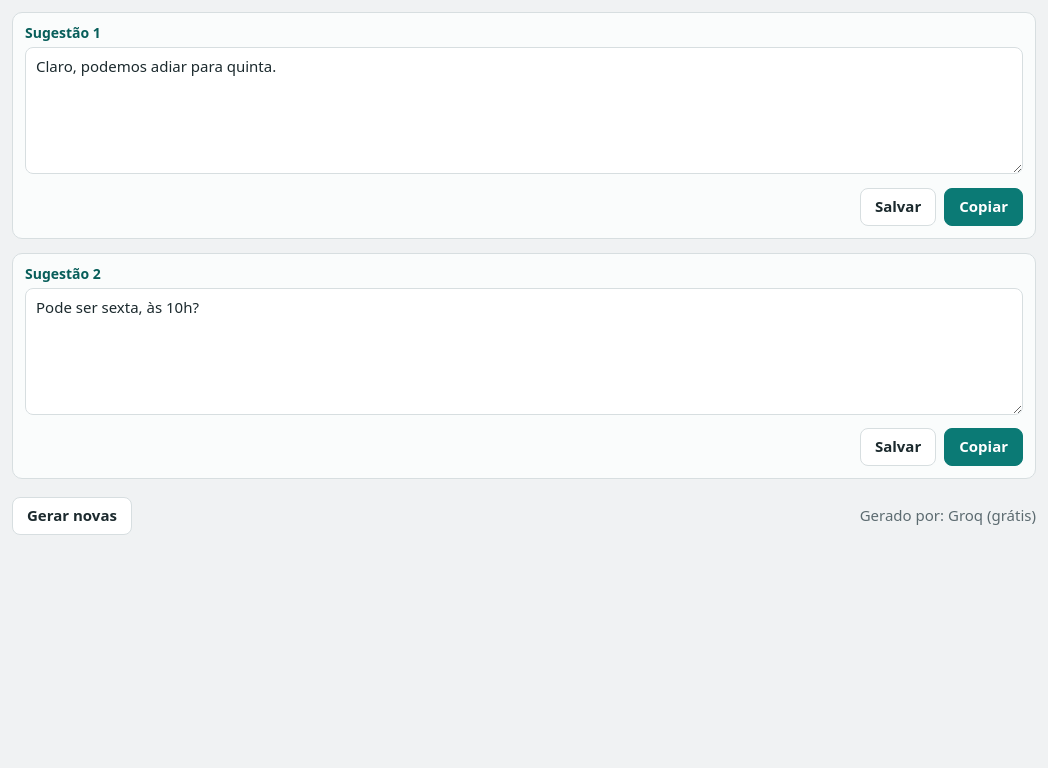
Test: Suggestions › Copiar envia o texto editado e mostra "Copiado ✓" por 2 segundos
The width and height of the screenshot is (1048, 768).
Replace the text in the text box labelled "Sugestão 1" with "Texto editado" at point(524, 111), box [25,47,1023,174]
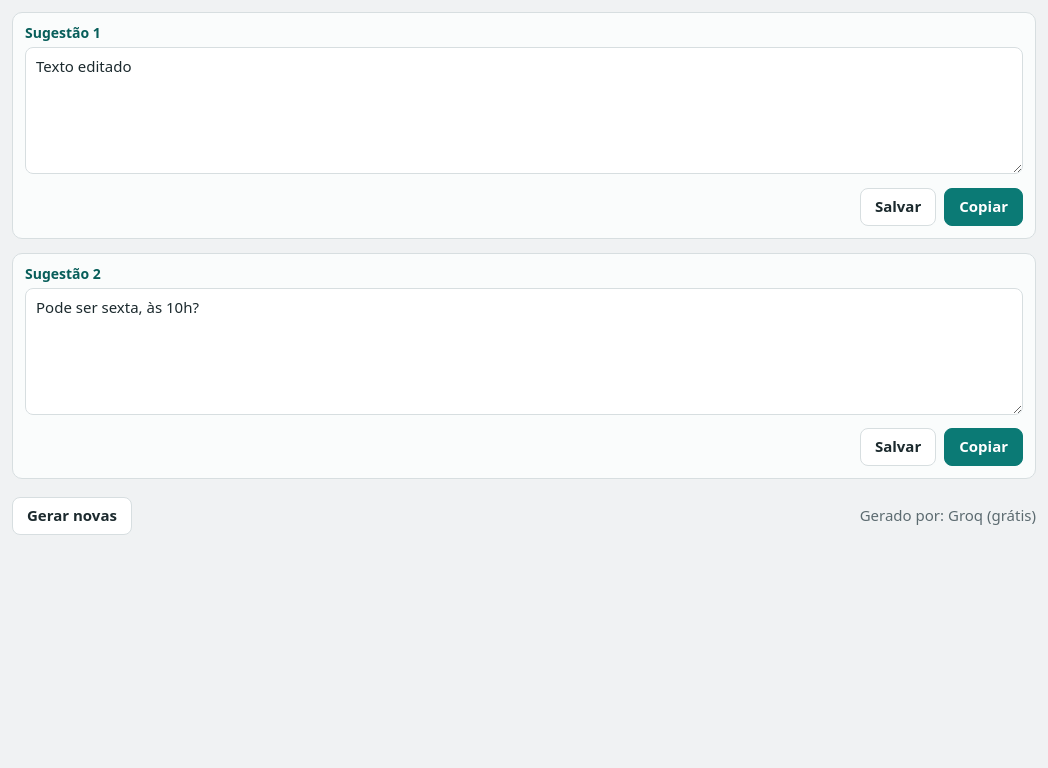
Click the 1st button "Copiar" at point(984, 207), box [944,188,1023,226]
Wait 2100 ms
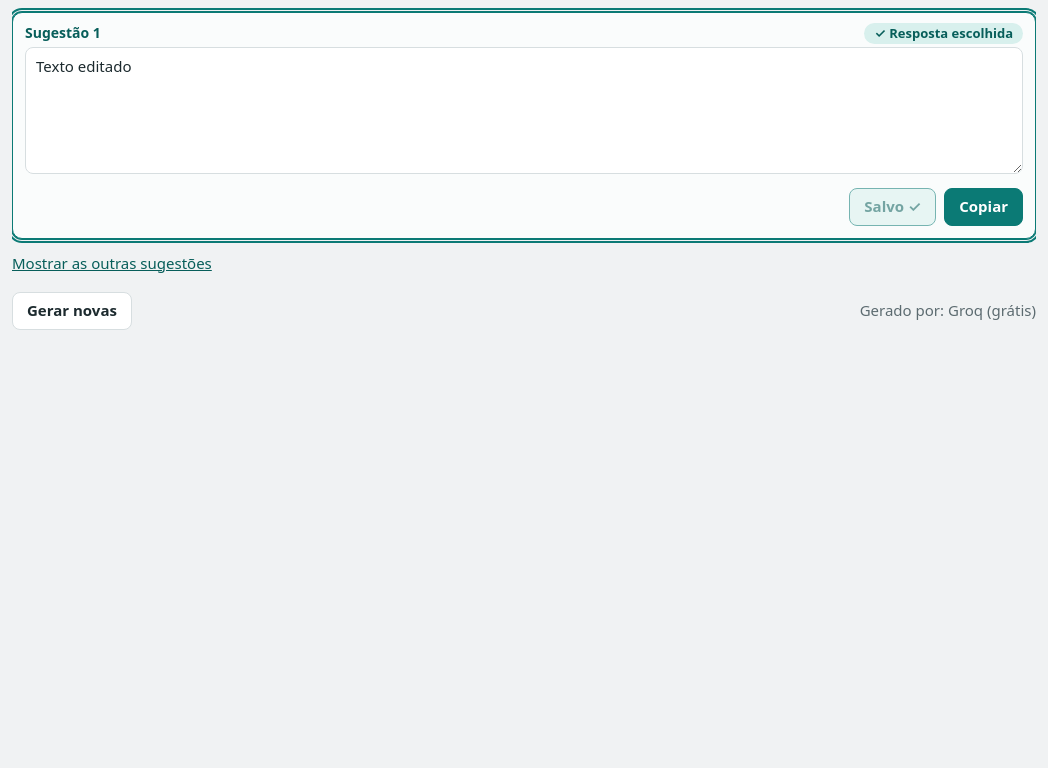
expect the number of buttons "Copiar" is 1: met, box [944,188,1023,226]
